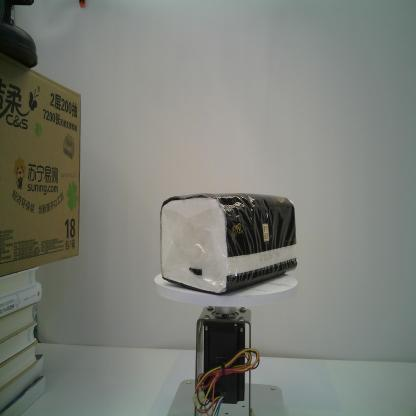Tissue: (159, 191, 298, 295)
